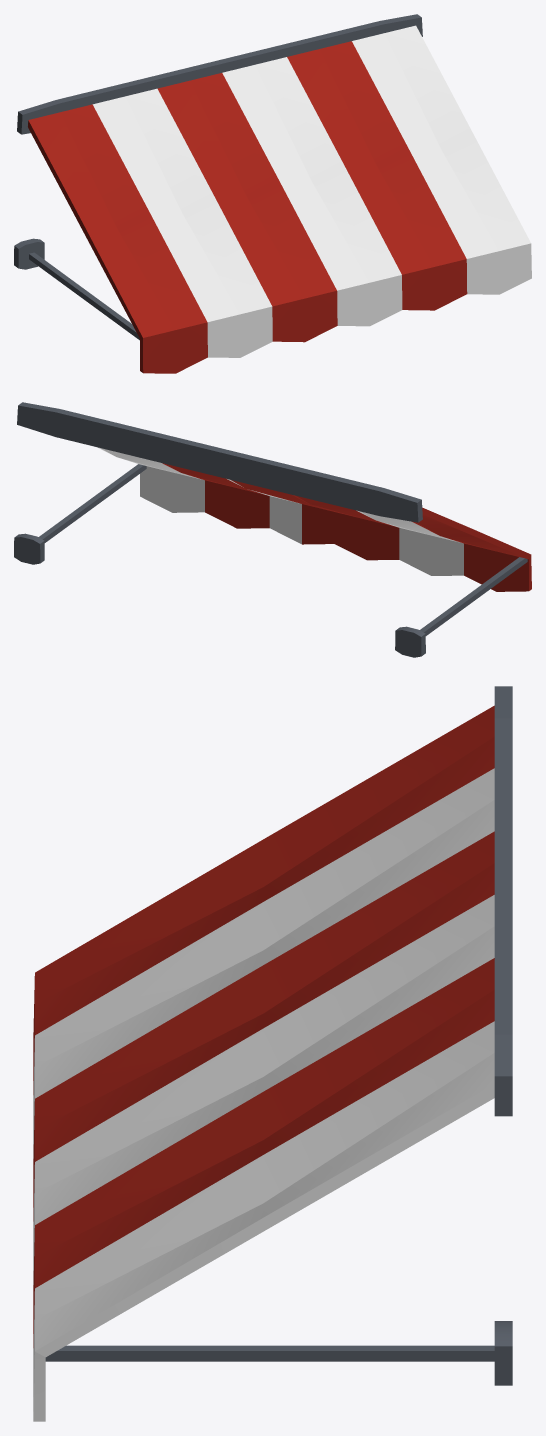
Rendered from StoreShadeA.fbx.
3 renders of one model, top to bottom at view 1: azimuth 30°, elevation 25°; view 2: azimuth 150°, elevation 25°; view 3: azimuth 270°, elevation 25°, orthographic. The views are drawn at different scales.
Parts seen in each view (by area): view 1: StoreShadeA; view 2: StoreShadeA; view 3: StoreShadeA.
Part boxes in pixels (x1=…): StoreShadeA: x1=14, y1=14, x2=531, y2=373; StoreShadeA: x1=14, y1=402, x2=531, y2=657; StoreShadeA: x1=33, y1=686, x2=512, y2=1421.
Bounding box in the file's own units: 419 × 183 × 214.
